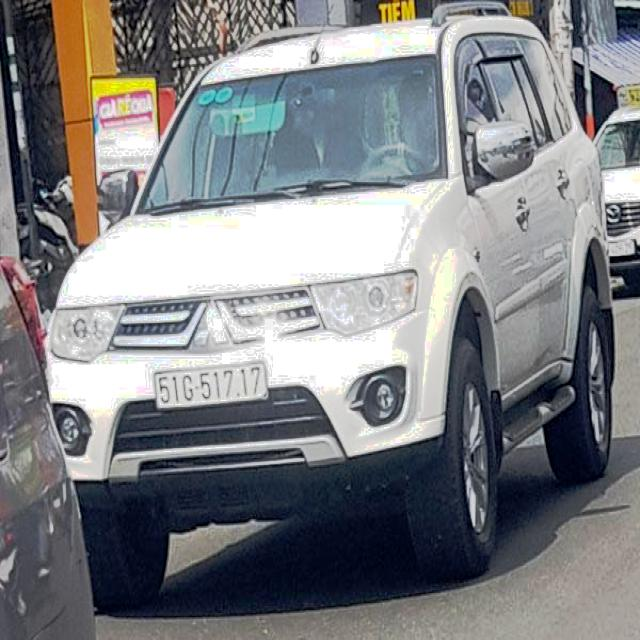license_plate: (155, 365, 270, 410)
